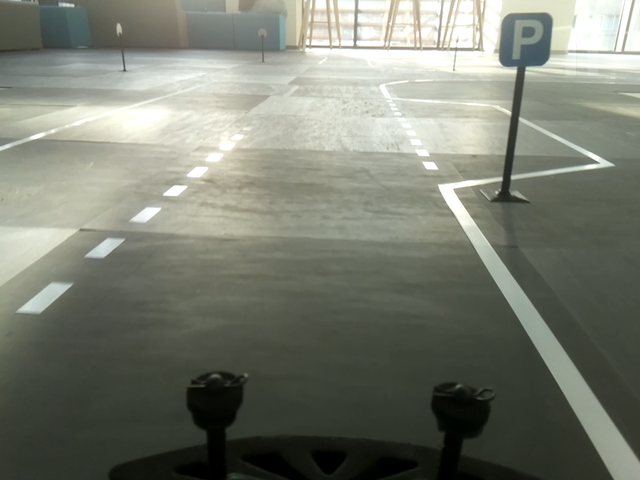parking: (498, 13, 553, 67)
